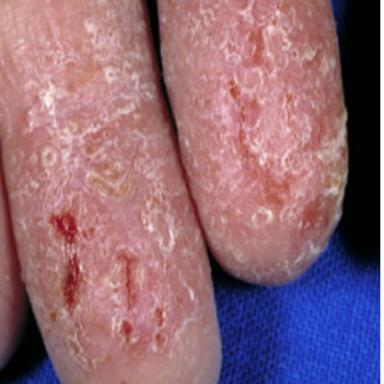eczema: (0, 2, 210, 372), (159, 2, 347, 284)
